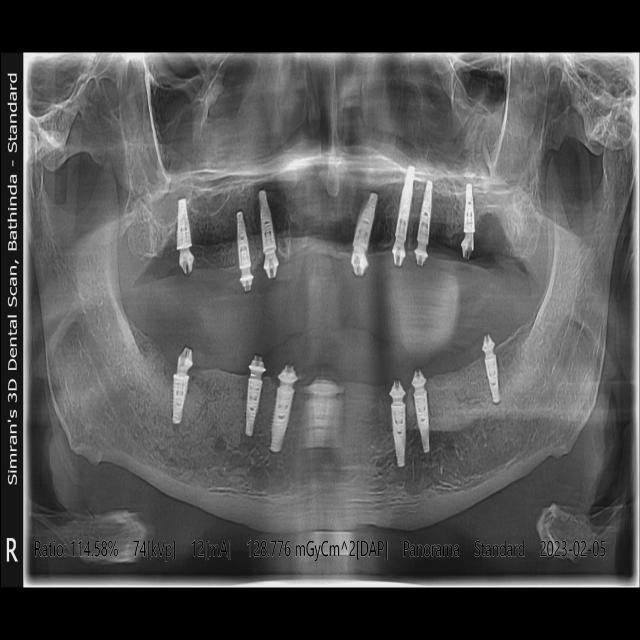Implant: (236, 212, 251, 270), (178, 199, 192, 248)
